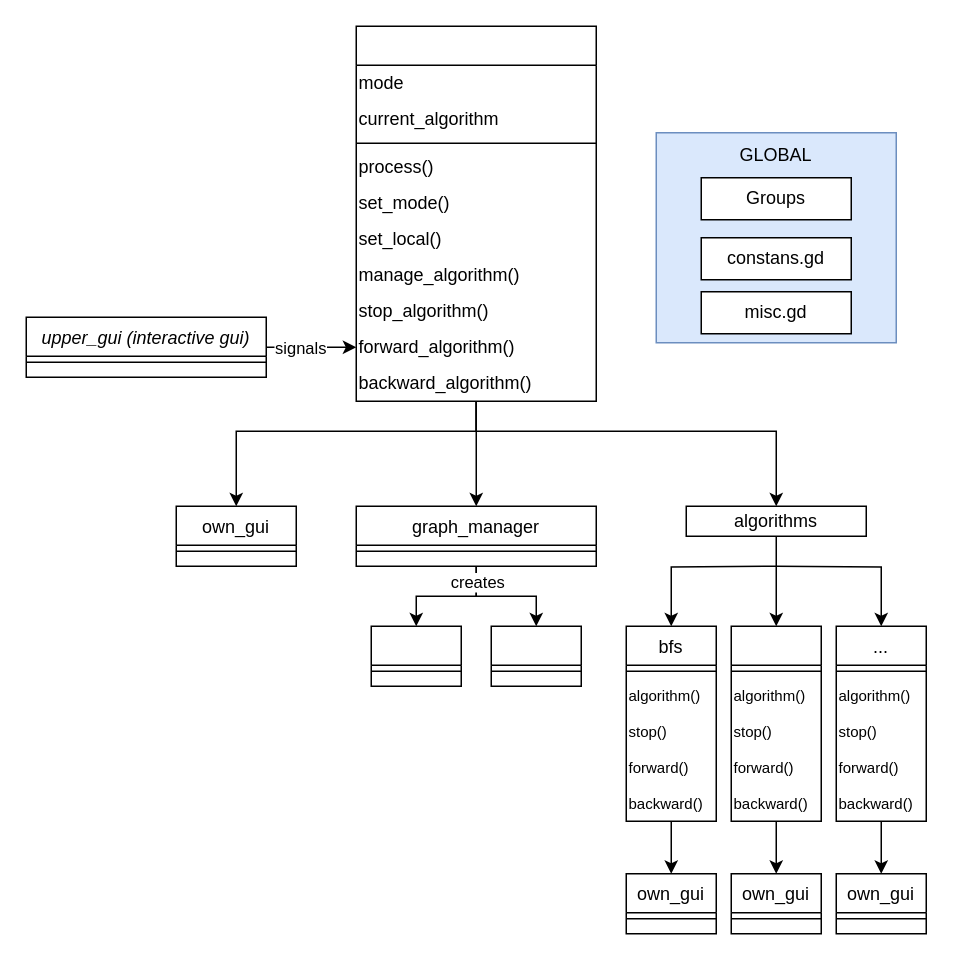
The diagram is 953 pixels wide and 960 high, and some of its shapes have lost their labels. The shapes that lost their labels are listed below. From the top down, each one's box as (x1, y1, x2, y2) in pixels, then its label:
(355, 25, 596, 401): controller
(370, 625, 461, 686): vertex
(490, 625, 581, 686): edge
(730, 625, 821, 821): dfs
